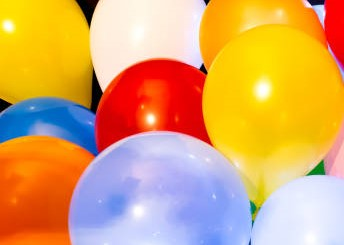Balloon: (204, 25, 344, 181), (69, 130, 251, 245), (1, 1, 92, 106)
